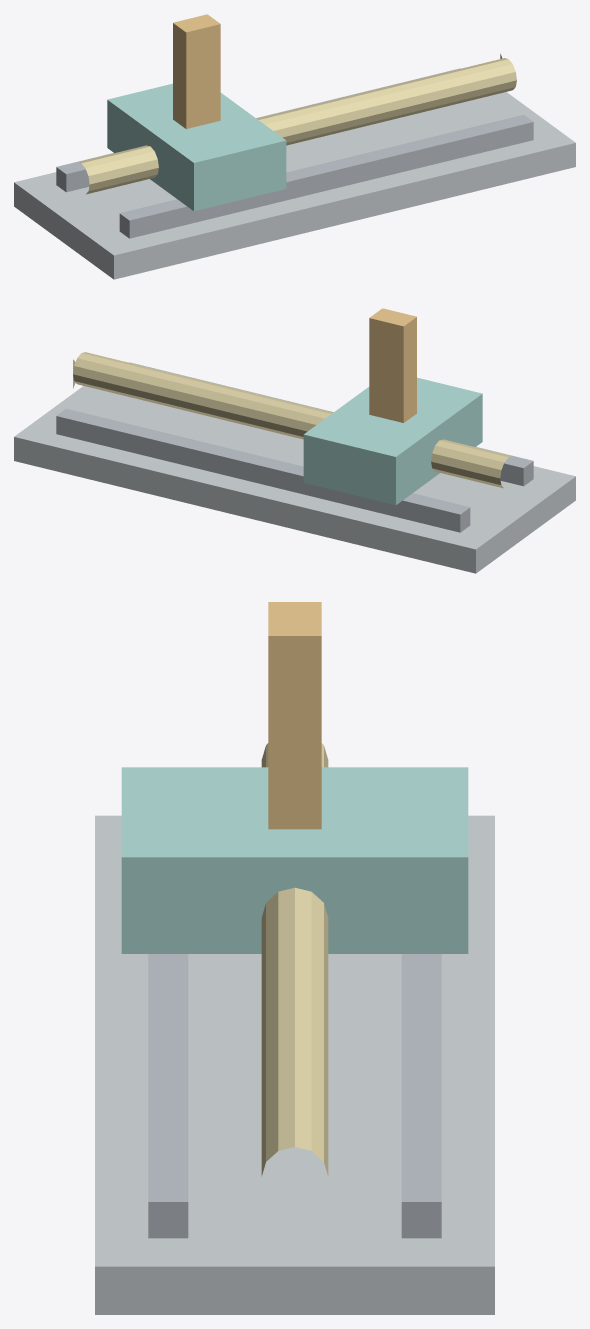
Rendered from stage.glb.
The picture shows the model from 3 angles, top to bottom: view 1: azimuth 30°, elevation 25°; view 2: azimuth 150°, elevation 25°; view 3: azimuth 270°, elevation 25°; orthographic projection. The views are drawn at different scales.
Parts seen in each view (by area): view 1: Base, Carriage, Leadscrew, Rail_2, Probe, Rail_1; view 2: Base, Carriage, Leadscrew, Rail_1, Probe, Rail_2; view 3: Base, Carriage, Leadscrew, Probe, Rail_1, Rail_2.
Boxes of the visible parts, box(x1,y1,x2,y2) form: Base: box(14, 92, 575, 279); Carriage: box(107, 83, 286, 211); Leadscrew: box(78, 53, 516, 194); Rail_2: box(119, 114, 533, 238); Probe: box(173, 14, 220, 128); Rail_1: box(56, 68, 460, 192); Base: box(14, 386, 575, 573); Carriage: box(303, 377, 482, 505); Leadscrew: box(73, 352, 511, 488); Rail_1: box(56, 408, 470, 532); Probe: box(369, 308, 416, 422); Rail_2: box(129, 362, 533, 486); Base: box(95, 815, 494, 1314); Carriage: box(121, 767, 468, 953); Leadscrew: box(261, 743, 328, 1176); Probe: box(268, 602, 321, 829); Rail_1: box(401, 954, 441, 1238); Rail_2: box(148, 954, 188, 1238).
Size of the model in its own units: 160 by 62 by 60.
